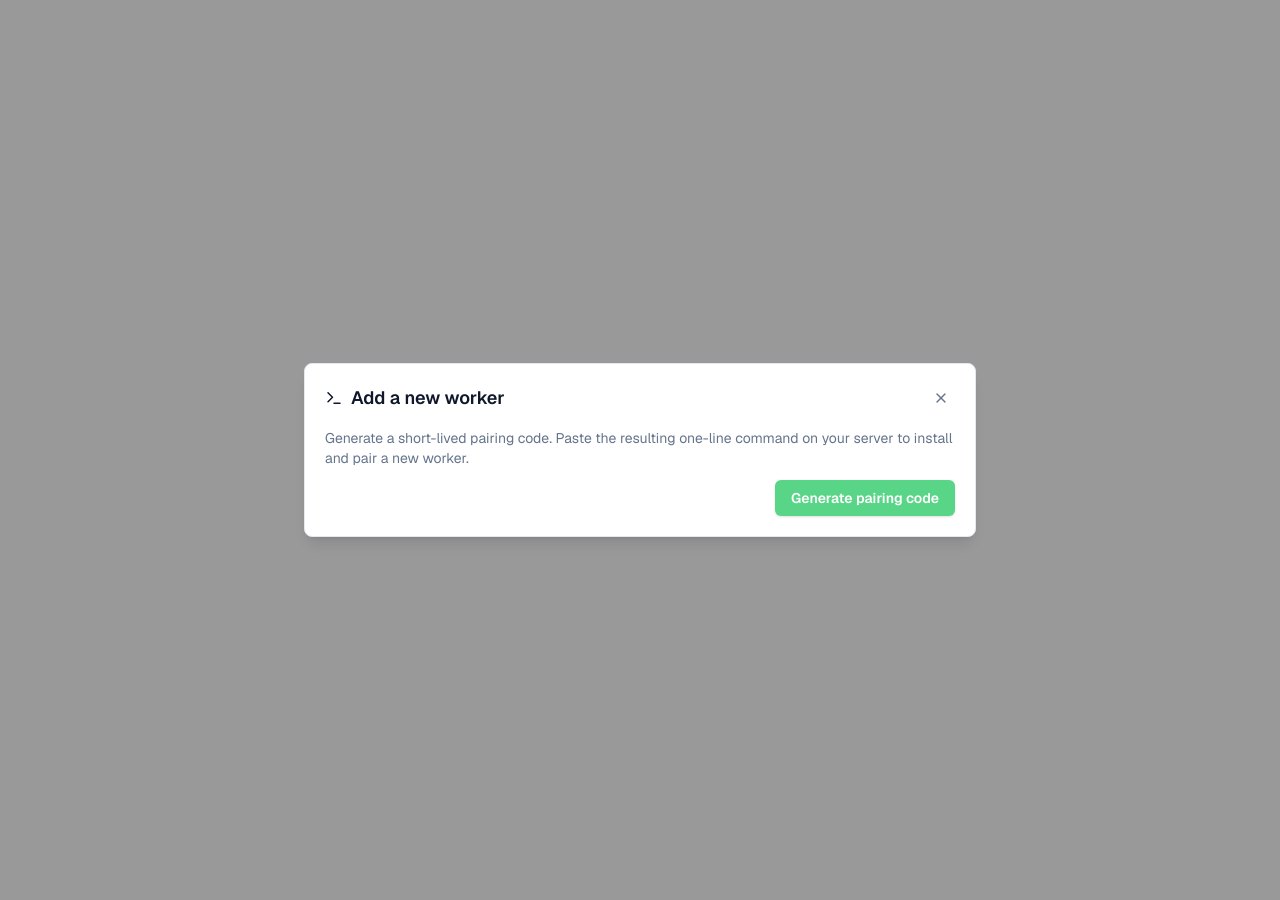
Test: AddWorkerModal › shows an error message when code generation fails
Click the button "Generate pairing code": [865, 498] box [775,480,955,516]
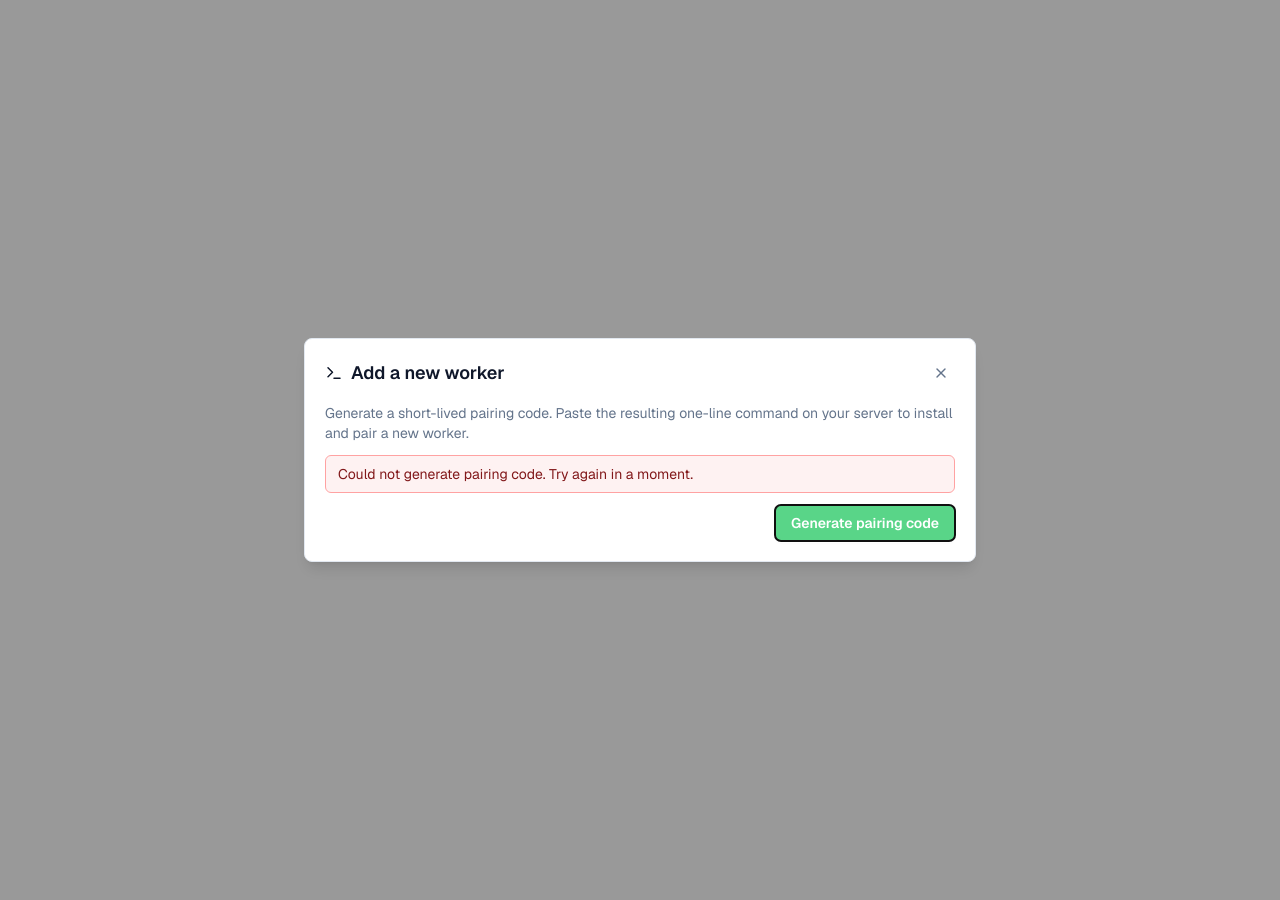
Expected: the text "Could not generate pairing code. Try again in a moment." is shown, [325,455,955,493]
